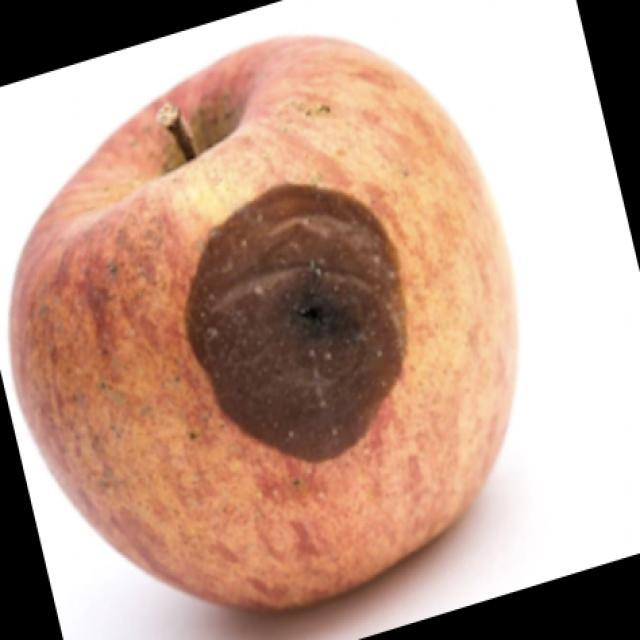Rotten: (21, 37, 516, 603)
